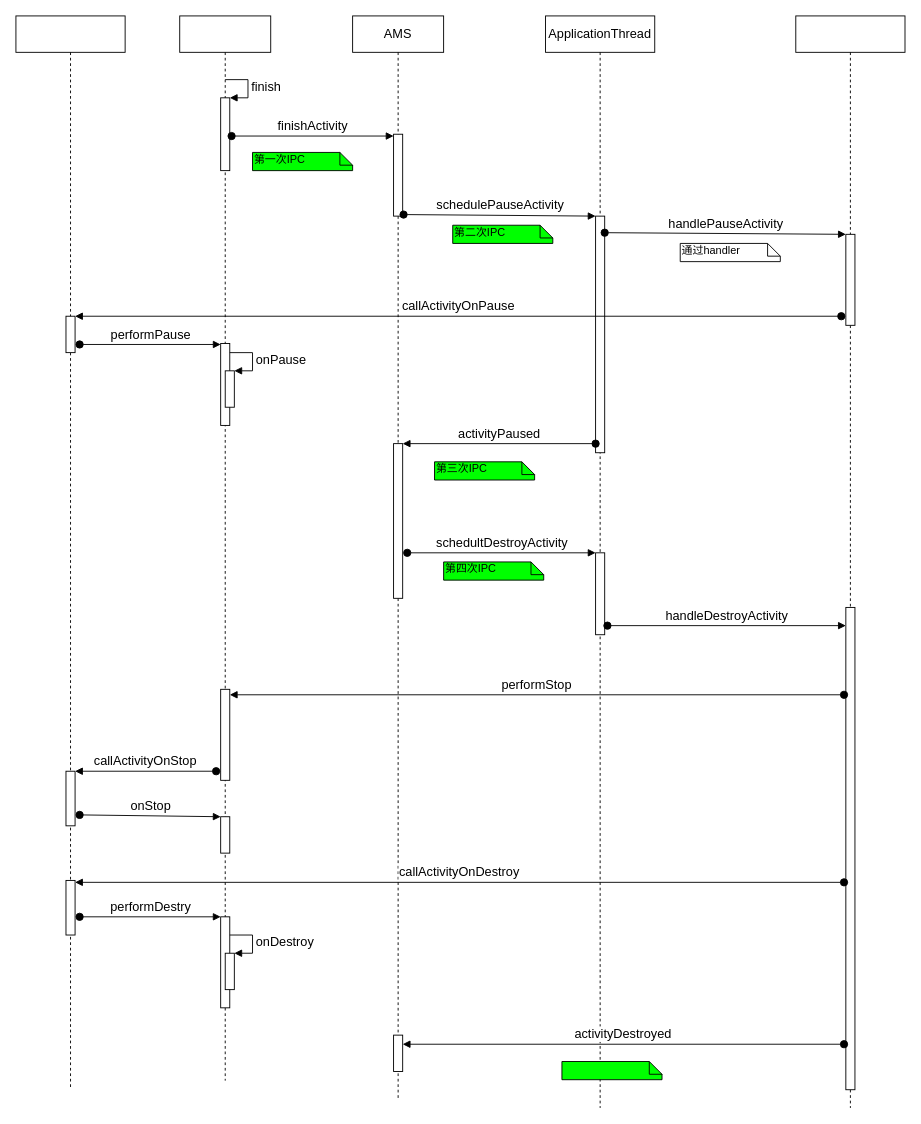
The diagram is 921 pixels wide and 1124 high, and some of its shapes have lost their labels. Here are the shapes that lost their labels. From the top down, the box of each, then its label:
(15, 15, 125, 1090): Instrumentation
(179, 15, 271, 1081): finishing activity
(795, 15, 905, 1108): ActivityThread
(561, 1061, 662, 1080): 第五次IPC
